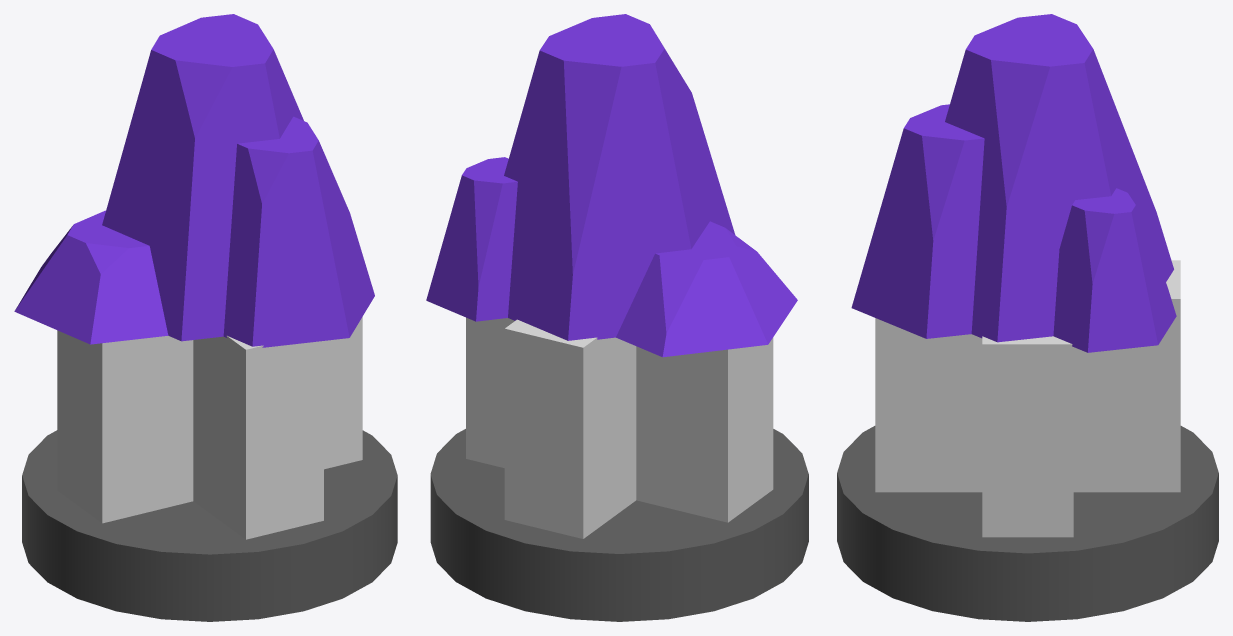
The model's file is gems_amethyst_6.obj.
The picture shows the model from 3 angles, left to right: view 1: azimuth 30°, elevation 25°; view 2: azimuth 150°, elevation 25°; view 3: azimuth 270°, elevation 25°; orthographic projection.
Parts seen in each view (by area): view 1: mergedBlocks; view 2: mergedBlocks; view 3: mergedBlocks.
Part boxes in pixels (box(x1,y1,x2,y2)): mergedBlocks: box(14, 14, 397, 621); mergedBlocks: box(426, 14, 808, 621); mergedBlocks: box(837, 14, 1218, 621).
Size of the model in its own units: 1.03 by 1.46 by 1.
